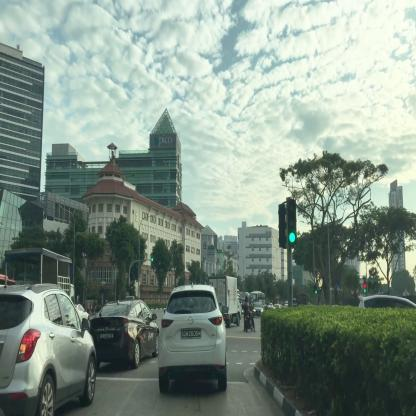green_traffic_light: (288, 201, 295, 244)
